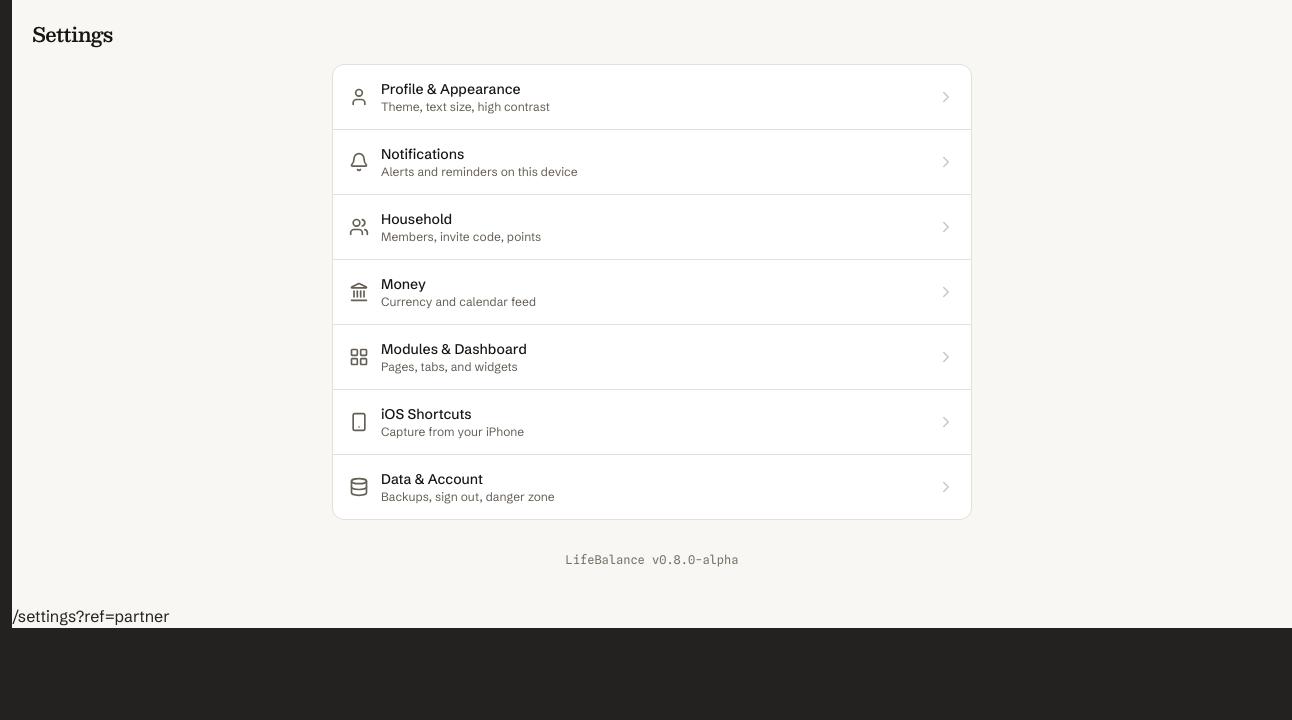
Test: Settings index + sub-screens › preserves unrelated query params when drilling in and backing out
Step 1. Click the text "Profile & Appearance" → (451, 89), box [381,80,521,98]
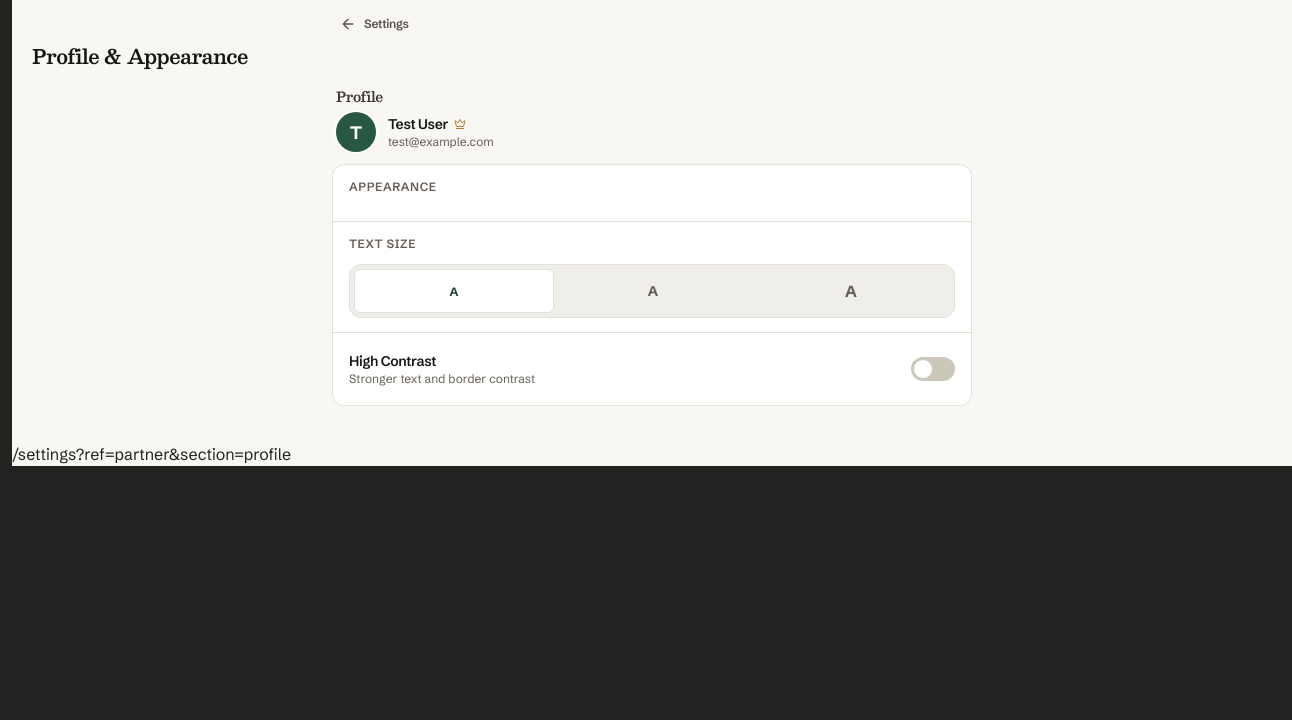
Expected: the text with test id "location-probe" shows "ref=partner", [12,444,291,464]
Expected: the text with test id "location-probe" shows "section=profile", [12,444,291,464]
Step 2. Click the button with aria-label "back to settings" → (374, 24), box [328,12,421,36]
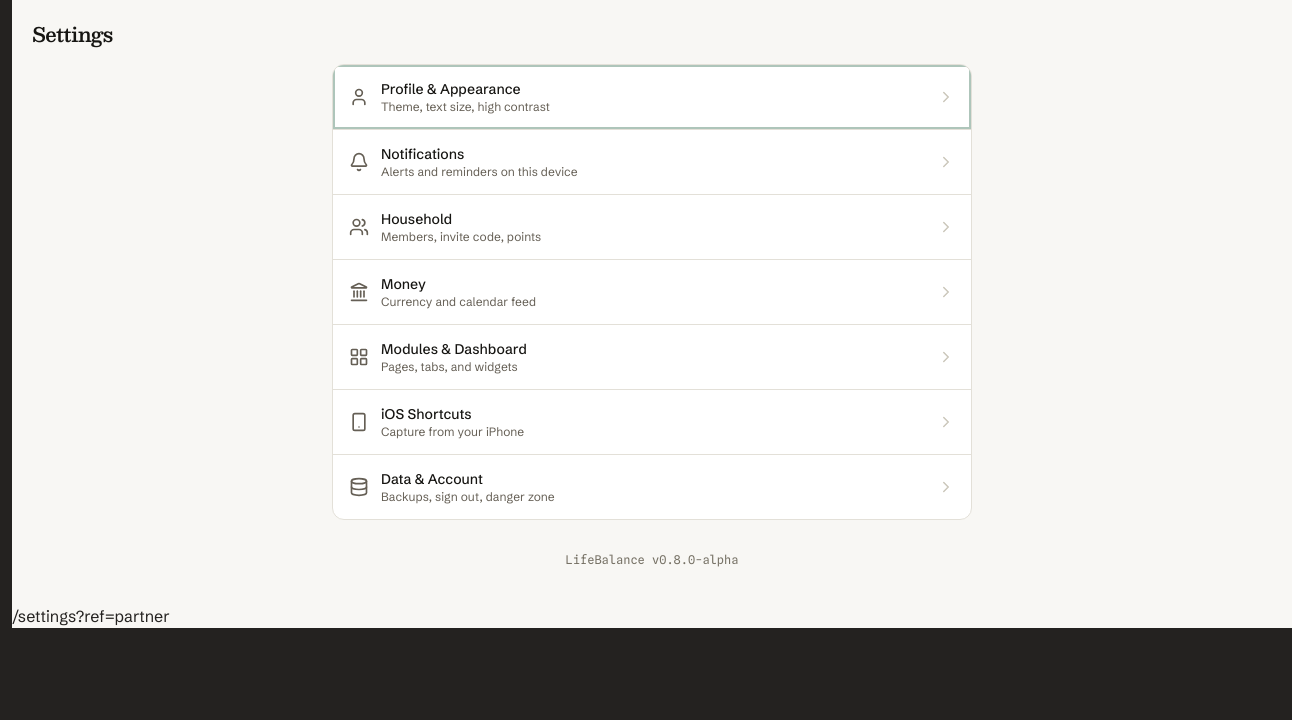
Expected: the text with test id "location-probe" shows "ref=partner", [12,606,170,626]
Expected: the text with test id "location-probe" no longer shows "section="
